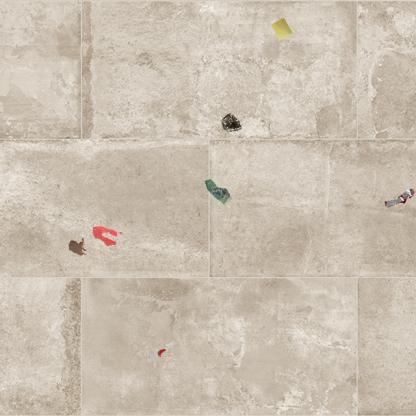dirty: (203, 178, 232, 206), (382, 186, 416, 209), (269, 16, 295, 42), (219, 110, 243, 134), (146, 348, 167, 361)
liquid: (91, 225, 124, 247), (67, 237, 88, 257)
